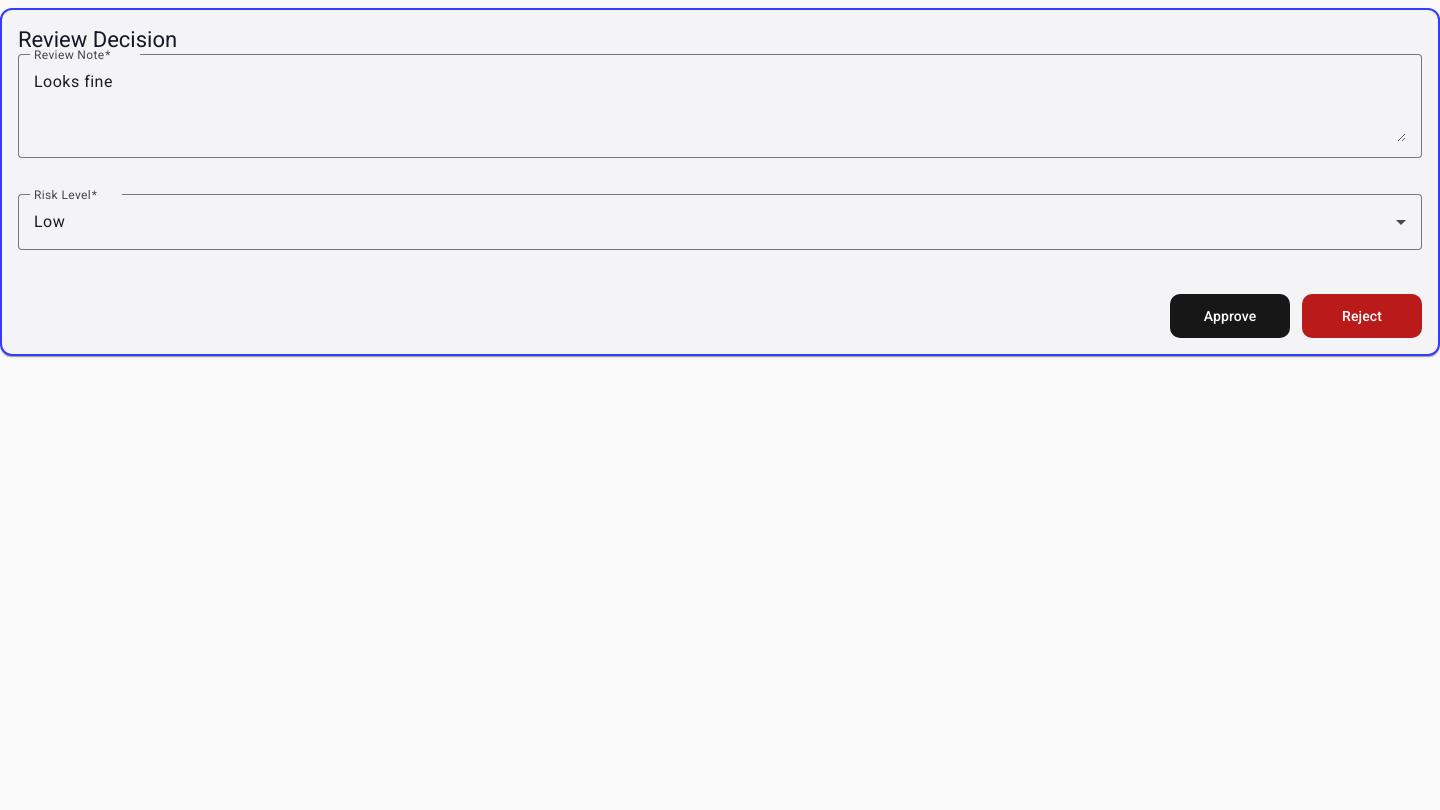
ReviewPanelComponent › shows a red confirm button when rejecting
Click the button "Reject".
click(1362, 316)  # box [1302,294,1422,338]
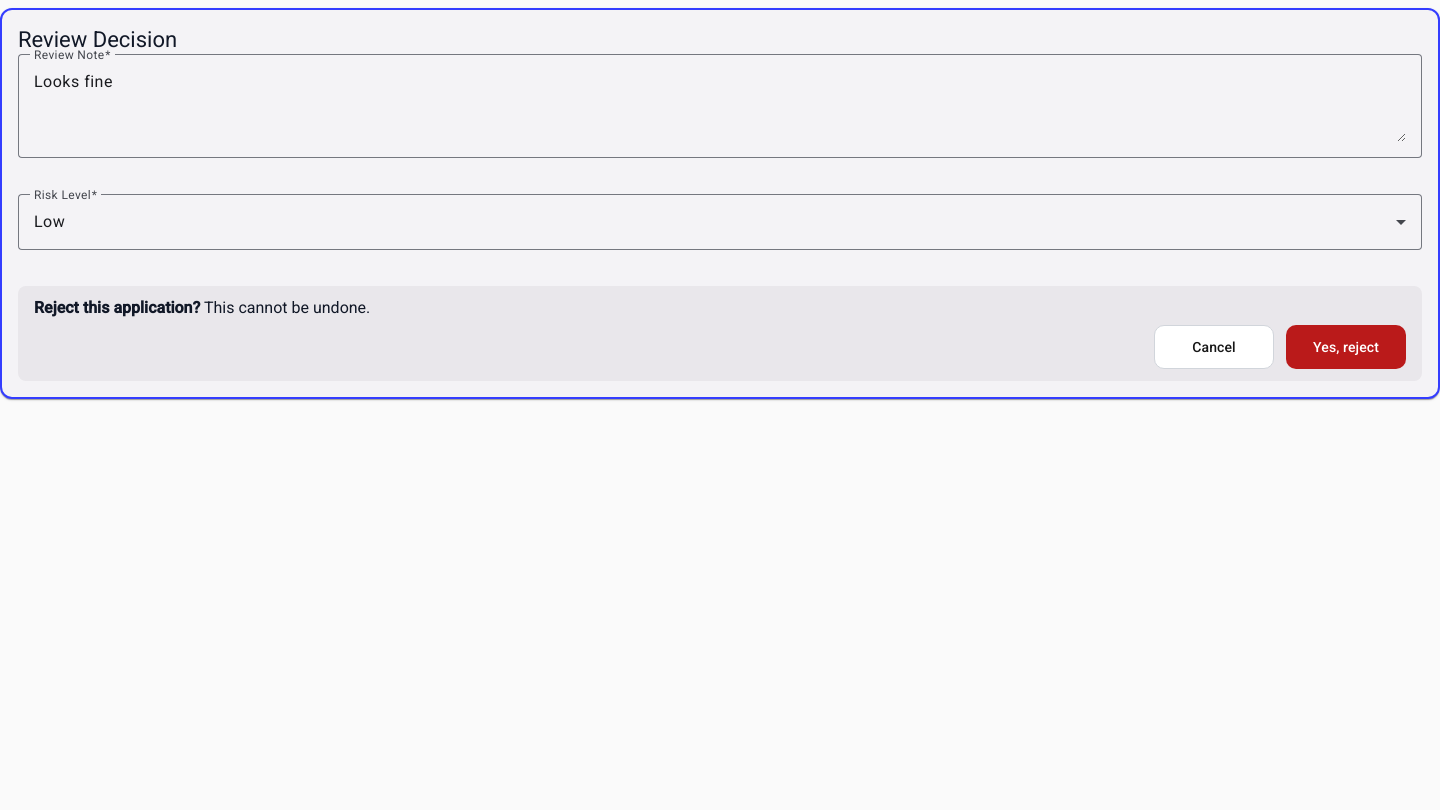
Result: the text "Reject this application?" is shown at [34,298,200,317]
